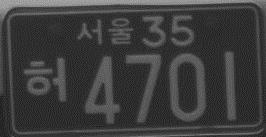0: (168, 51, 208, 122)
1: (218, 49, 241, 122)
3: (139, 14, 166, 49)
4: (84, 54, 121, 126)
5: (168, 14, 195, 46)
7: (126, 52, 162, 124)
서울_O: (76, 15, 133, 47)
허: (24, 54, 70, 103)
